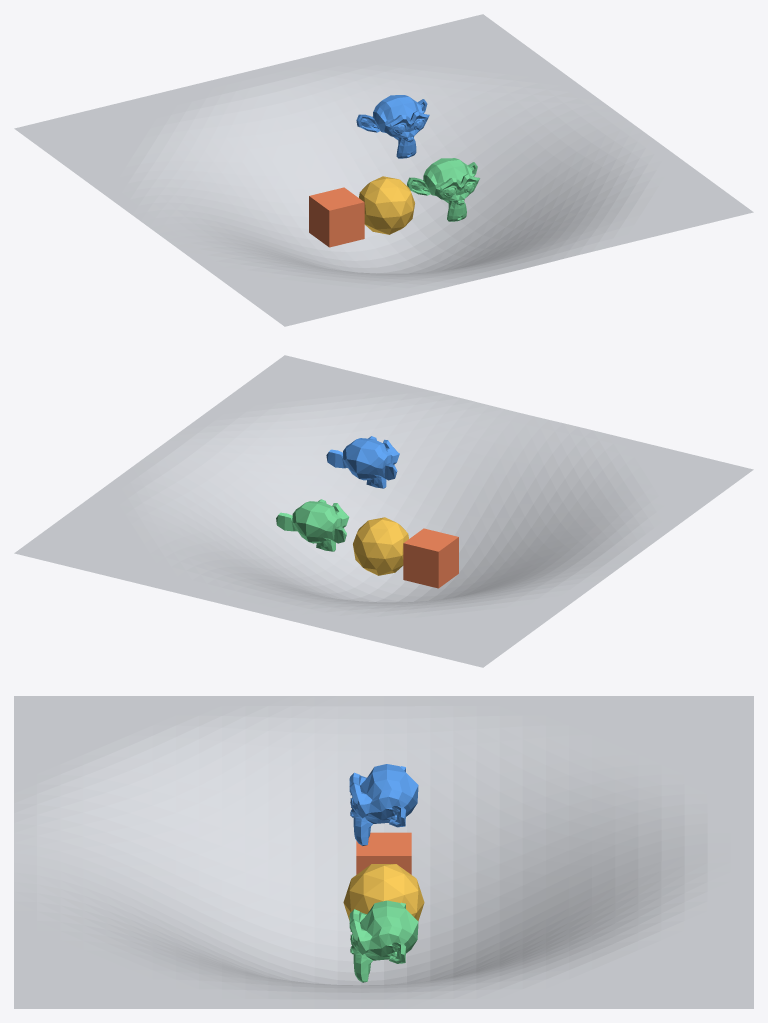
The model's file is PassiveActive.glb.
3 renders of one model, top to bottom at view 1: azimuth 30°, elevation 25°; view 2: azimuth 150°, elevation 25°; view 3: azimuth 270°, elevation 25°, orthographic. The views are drawn at different scales.
Parts seen in each view (by area): view 1: Plane.001, Cube.001, Suzanne.003, Suzanne.002, Icosphere.001; view 2: Plane.001, Cube.001, Icosphere.001, Suzanne.002, Suzanne.003; view 3: Plane.001, Suzanne.002, Suzanne.003, Icosphere.001, Cube.001.
Boxes of the visible parts, x1=… form: Plane.001: x1=14, y1=14, x2=753, y2=326; Cube.001: x1=309, y1=187, x2=364, y2=247; Suzanne.003: x1=356, y1=95, x2=429, y2=158; Suzanne.002: x1=407, y1=158, x2=479, y2=221; Icosphere.001: x1=359, y1=176, x2=414, y2=234; Plane.001: x1=14, y1=355, x2=753, y2=667; Cube.001: x1=403, y1=528, x2=458, y2=588; Icosphere.001: x1=353, y1=517, x2=408, y2=575; Suzanne.002: x1=276, y1=499, x2=349, y2=551; Suzanne.003: x1=326, y1=436, x2=399, y2=488; Plane.001: x1=14, y1=696, x2=753, y2=1008; Suzanne.002: x1=349, y1=900, x2=418, y2=982; Suzanne.003: x1=349, y1=764, x2=418, y2=845; Icosphere.001: x1=343, y1=864, x2=424, y2=921; Cube.001: x1=356, y1=832, x2=411, y2=874.
Size of what is drawn, in the model's own units: 18.25 by 5.81 by 18.25.
